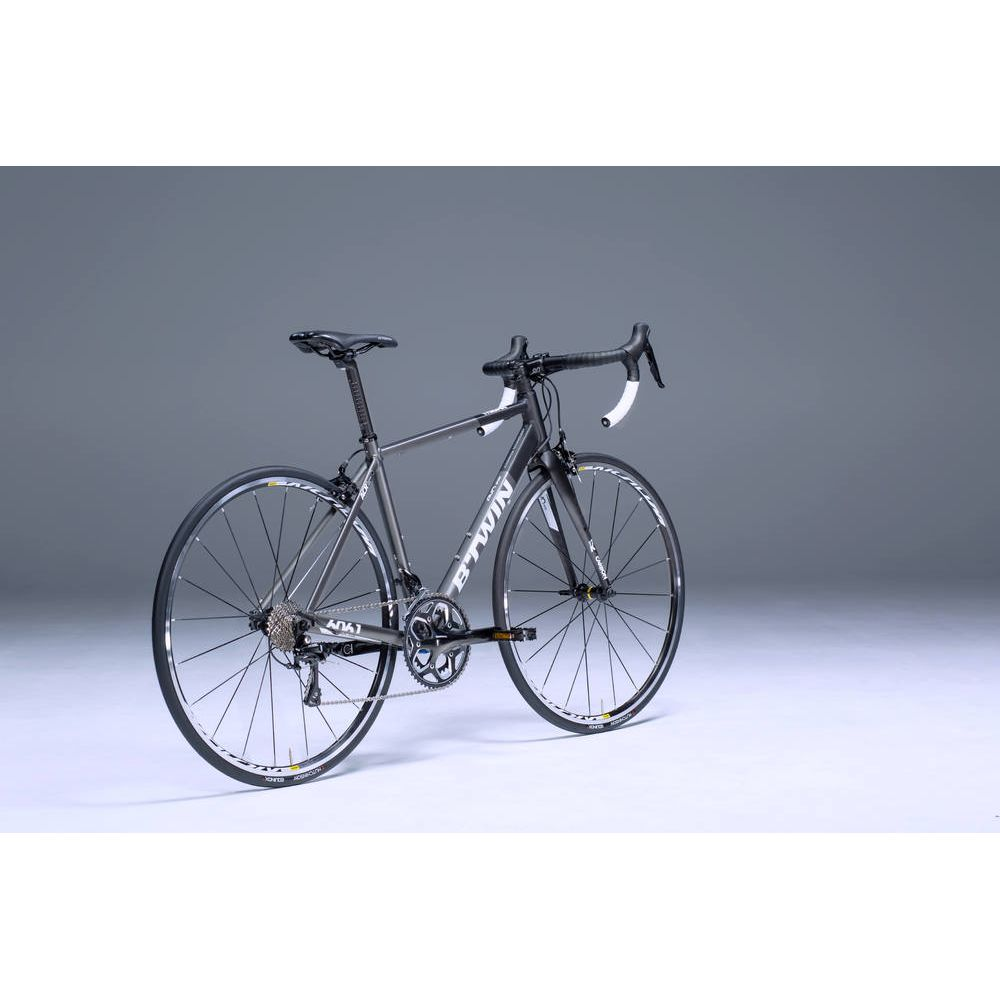RoadBike: (154, 316, 687, 782)
